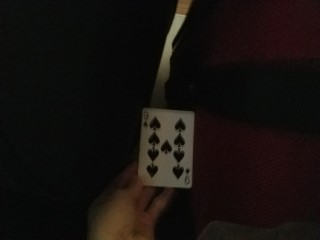NineOfSpades: (138, 107, 195, 189)
